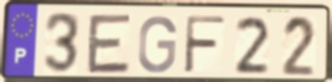2: (279, 14, 319, 78), (233, 14, 271, 75)
3: (42, 10, 82, 77)
E: (85, 12, 134, 76)
F: (182, 13, 228, 76)
G: (136, 14, 179, 75)
